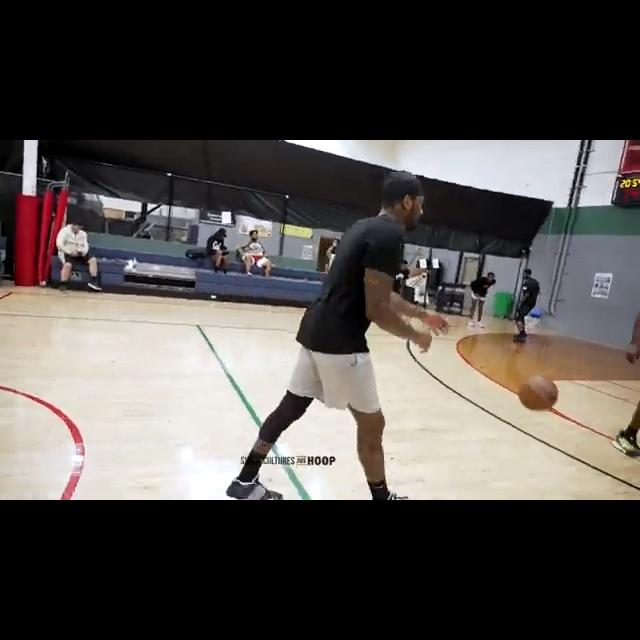basketball: (518, 376, 559, 413)
person: (226, 174, 435, 500), (612, 270, 639, 459), (55, 221, 103, 292), (513, 267, 541, 345), (238, 228, 275, 278), (467, 269, 497, 328), (203, 227, 232, 276), (326, 238, 341, 268)
